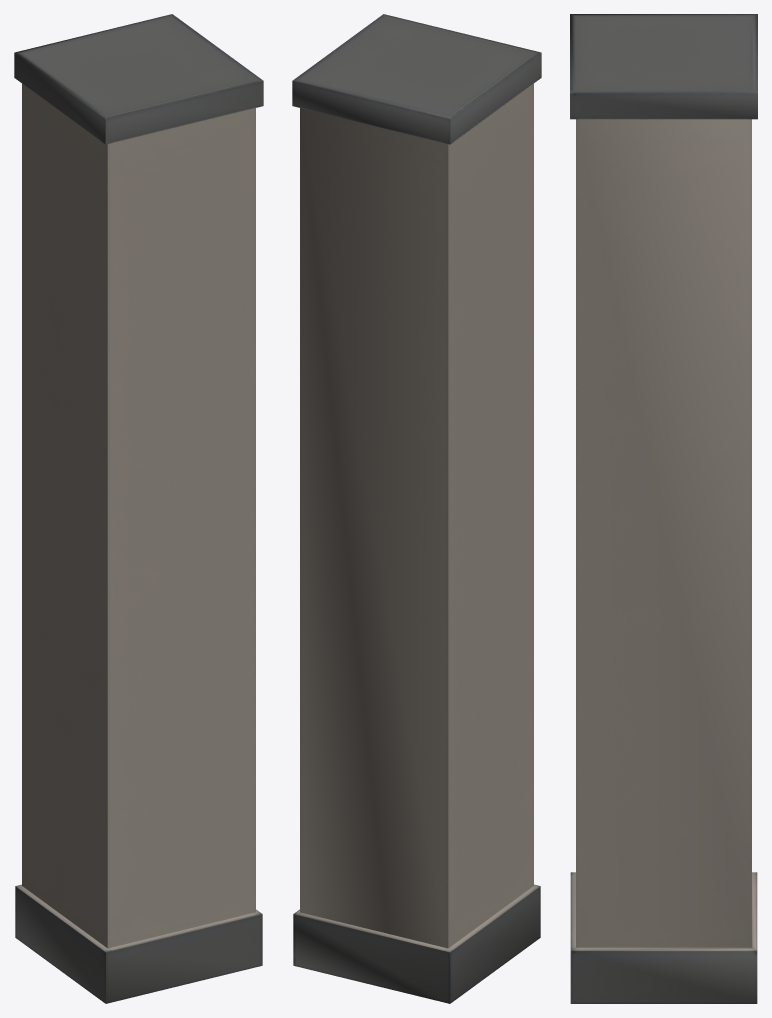
The model's file is ENV_Wall_pillar_v001.fbx.
3 renders of one model, left to right at view 1: azimuth 30°, elevation 25°; view 2: azimuth 150°, elevation 25°; view 3: azimuth 270°, elevation 25°, orthographic. The views are drawn at different scales.
Parts seen in each view (by area): view 1: 큐브_001; view 2: 큐브_001; view 3: 큐브_001.
Boxes of the visible parts, x1,y1,x2,y2 form: 큐브_001: [14, 14, 263, 1003]; 큐브_001: [292, 14, 541, 1003]; 큐브_001: [570, 14, 757, 1003].
Size of the model in its own units: 74.66 by 400 by 74.66.
1 material, 1 textured.
